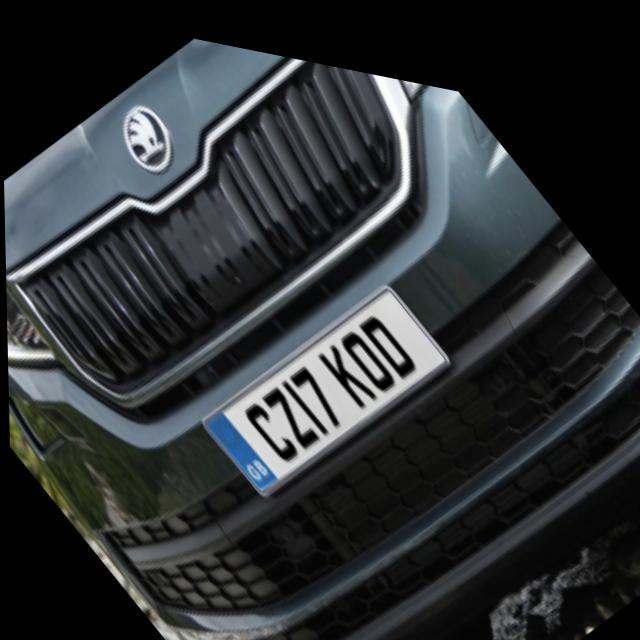license_plate: (193, 234, 448, 516)
